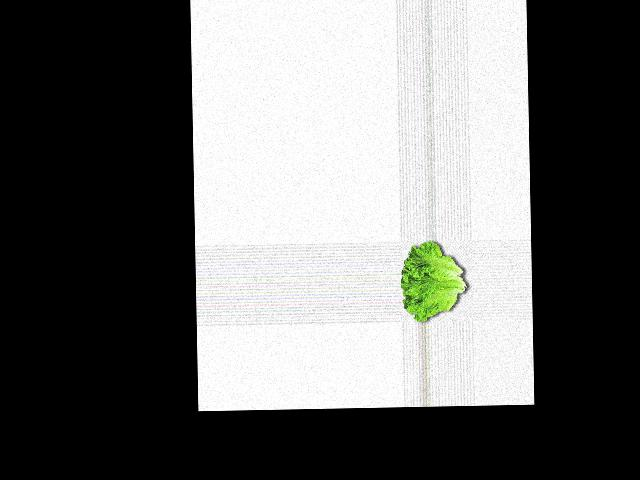lettuce: (400, 238, 469, 320)
